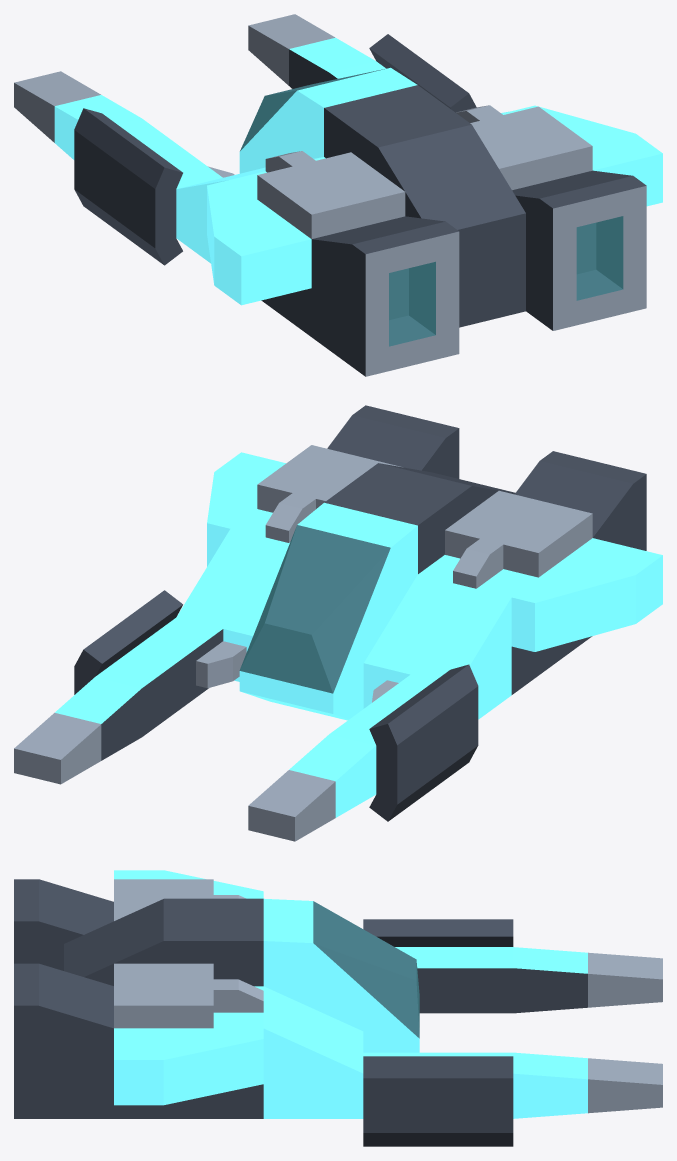
Rendered from craft_miner.glb.
3 views of the same model, one above another, from view 1: azimuth 30°, elevation 25°; view 2: azimuth 150°, elevation 25°; view 3: azimuth 270°, elevation 25° (orthographic). The views are drawn at different scales.
Visible parts, largest first — view 1: craft_miner; view 2: craft_miner; view 3: craft_miner.
Part boxes in pixels (x1,y1,x2,y2): craft_miner: (14, 14, 662, 376); craft_miner: (14, 405, 662, 841); craft_miner: (14, 870, 662, 1146).
Bounding box in the file's own units: 1.8 × 0.7 × 2.6.
